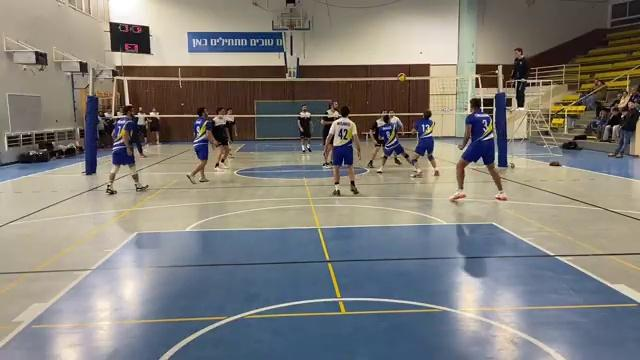ball: (395, 73, 410, 82)
